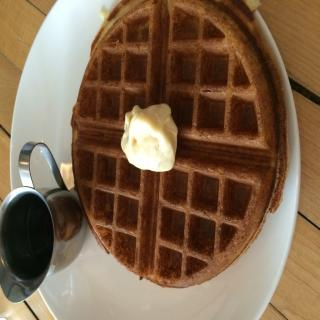Waffle: (70, 0, 290, 290)
